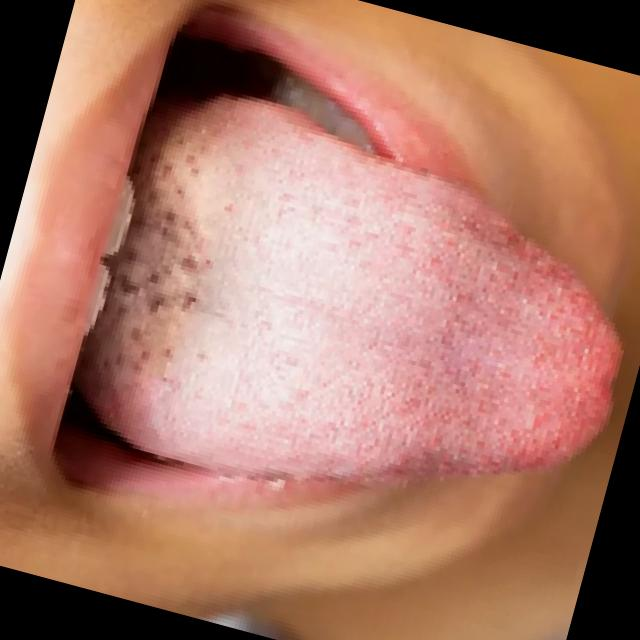No Cancer: (104, 93, 640, 582)
